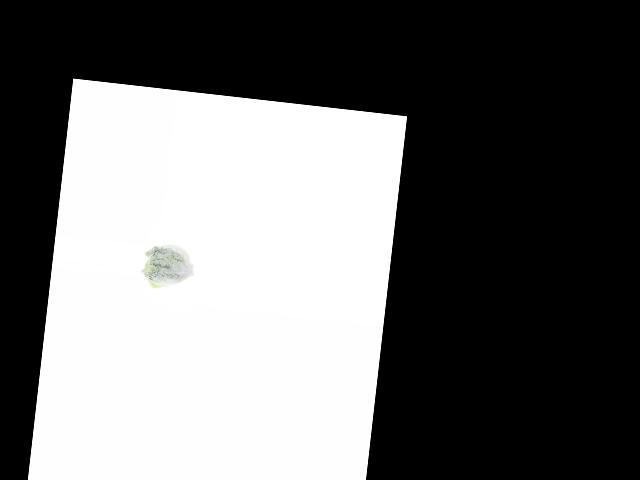lettuce: (139, 240, 196, 294)
